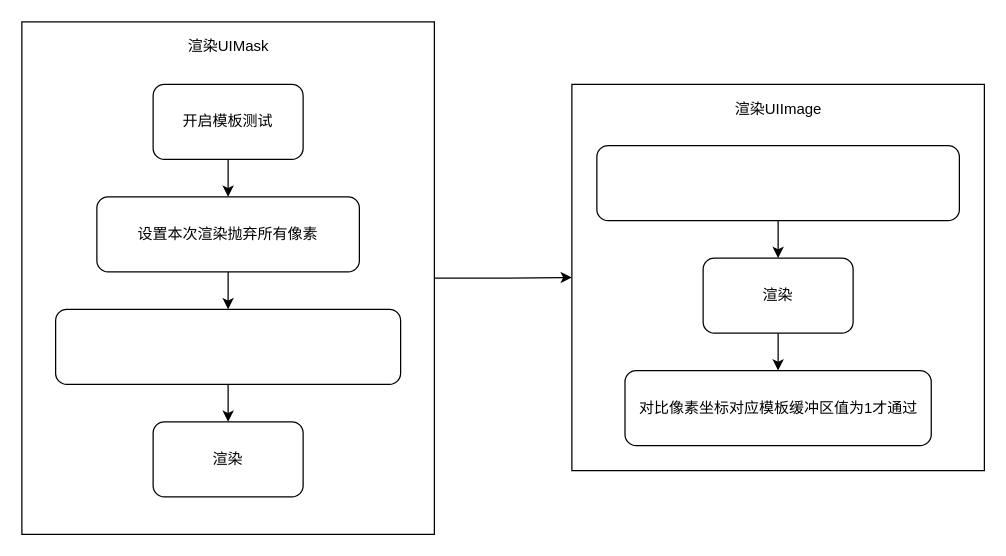
Image size: 1006x556. Some labels were removed from this diagram. Here are the shapes that lost their labels. From the top down, the centre of each, then its label:
point 777,182: 设置像素坐标对应模板缓冲区值为1才通过，其他抛弃
point 227,346: 设置本次渲染后，像素坐标对应模板缓冲区设置为1
